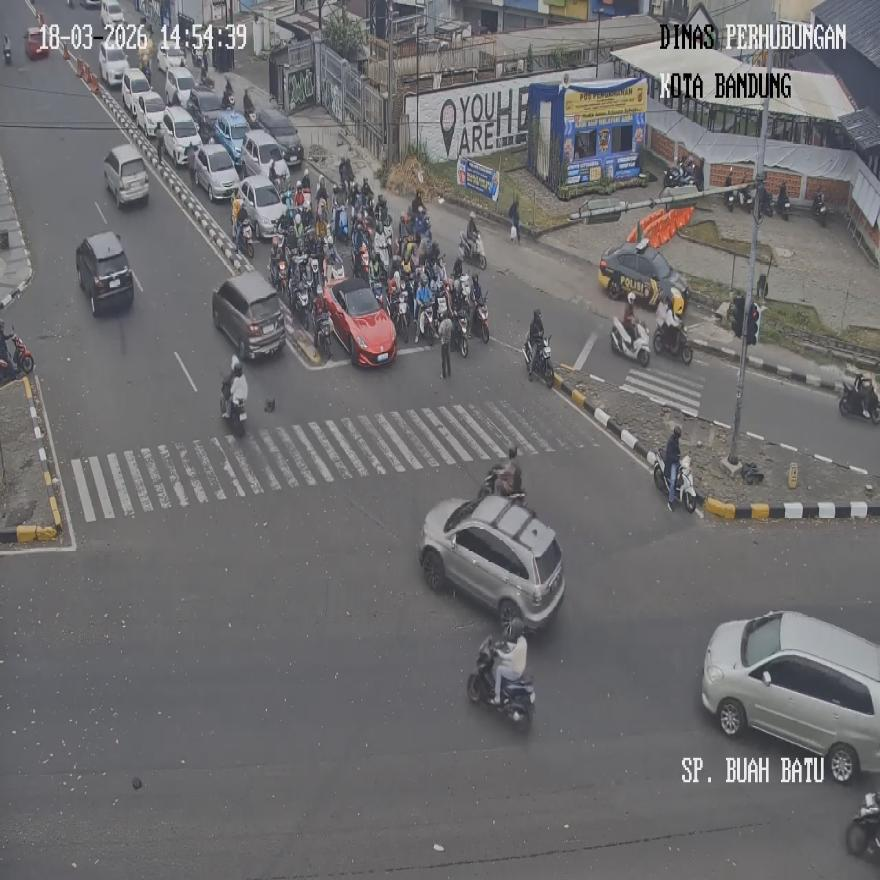Motor: (700, 609, 880, 783), (418, 492, 564, 634), (211, 272, 286, 360), (75, 230, 134, 315), (104, 142, 148, 205)
Truk: (468, 637, 534, 732), (654, 454, 696, 514), (846, 792, 880, 863), (610, 314, 650, 367), (838, 375, 880, 424), (652, 317, 692, 364), (478, 465, 526, 504), (0, 324, 34, 379), (221, 372, 247, 435), (524, 334, 554, 388), (312, 294, 333, 360), (290, 275, 312, 330), (390, 287, 410, 342), (459, 230, 486, 269), (414, 297, 434, 345), (234, 210, 253, 259), (469, 297, 489, 342), (452, 312, 468, 358), (269, 254, 288, 292), (325, 252, 345, 286), (811, 188, 827, 226), (724, 169, 737, 212), (308, 254, 321, 295), (775, 185, 789, 221), (220, 77, 234, 109), (3, 34, 11, 64)
